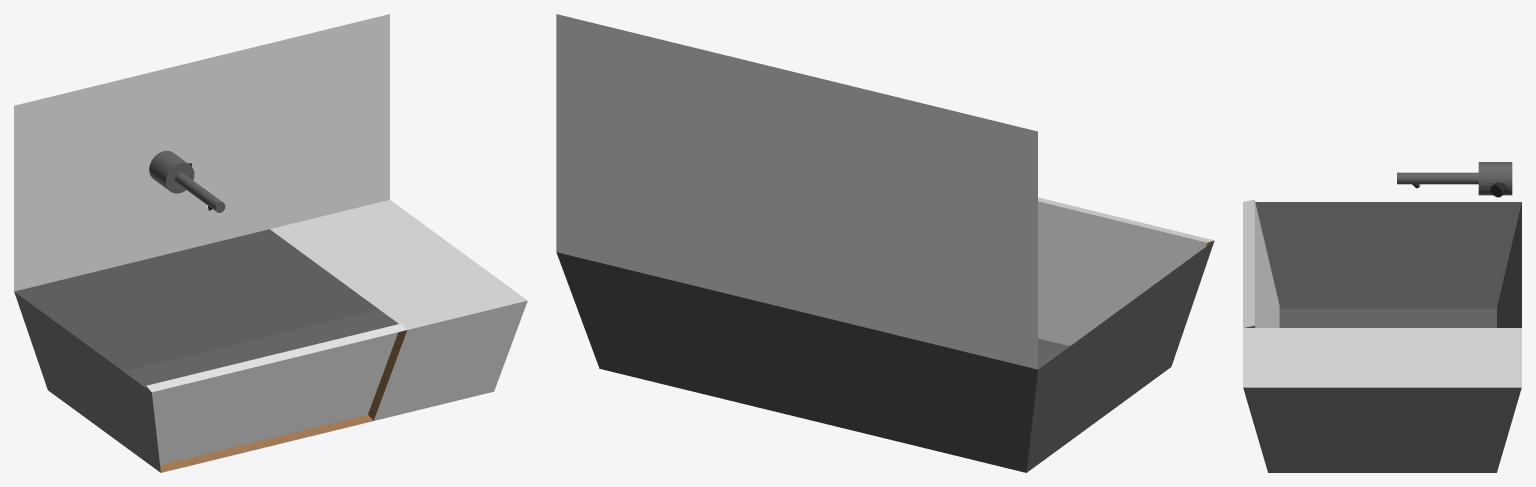
File: musluk.fbx
3 views of the same model, side by side, from view 1: azimuth 30°, elevation 25°; view 2: azimuth 150°, elevation 25°; view 3: azimuth 270°, elevation 25° (orthographic). The views are drawn at different scales.
Parts seen in each view (by area): view 1: Plane; view 2: Plane; view 3: Plane.
Part boxes in pixels (<box>): Plane: <box>14,14,527,472</box>; Plane: <box>556,14,1214,472</box>; Plane: <box>1243,162,1521,472</box>.
Size of the model in its own units: 315 by 225 by 200.
